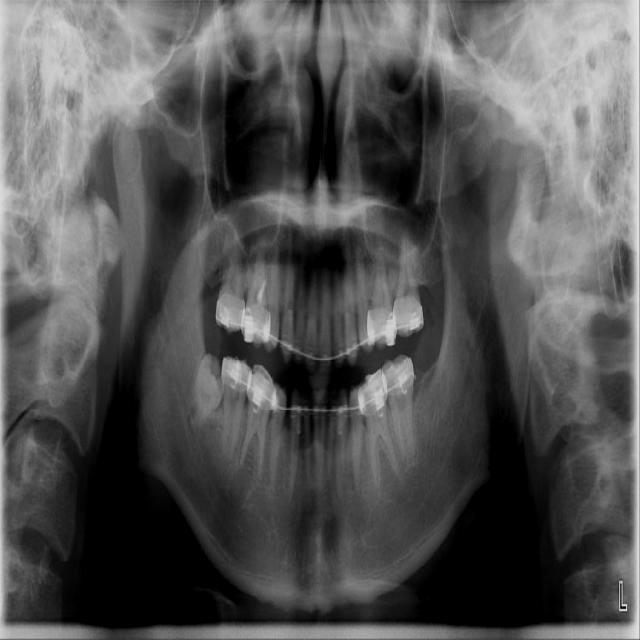impacted tooth: (183, 352, 225, 434)
